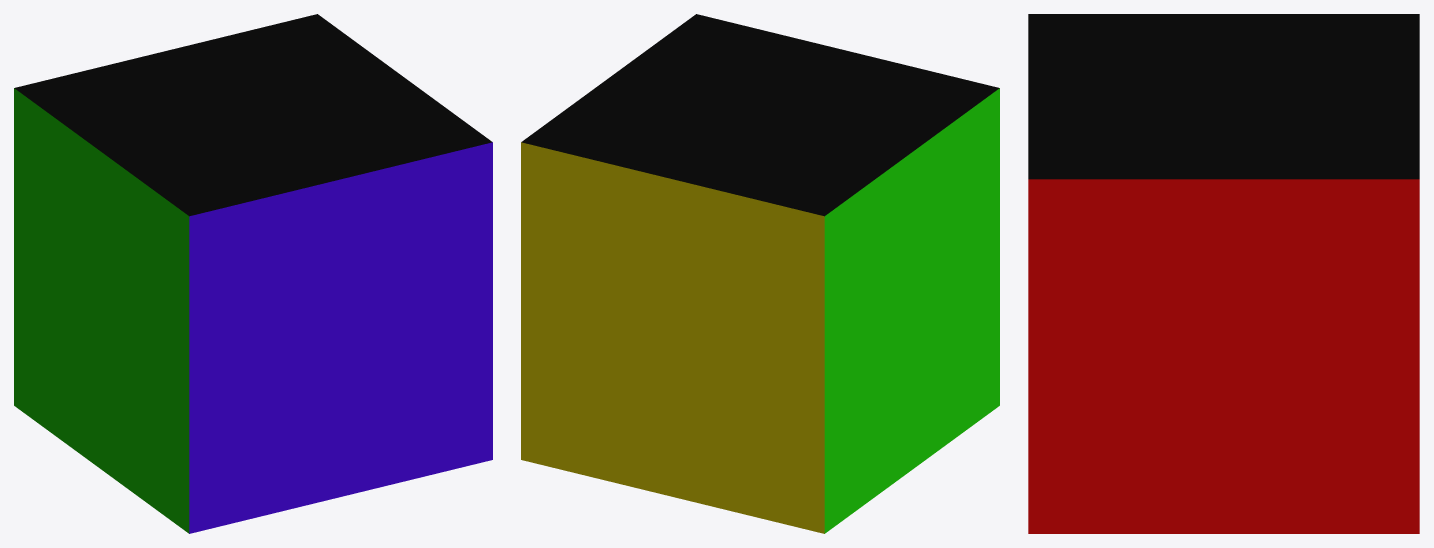
File: walls.fbx
The picture shows the model from 3 angles, left to right: view 1: azimuth 30°, elevation 25°; view 2: azimuth 150°, elevation 25°; view 3: azimuth 270°, elevation 25°; orthographic projection. The views are drawn at different scales.
Parts seen in each view (by area): view 1: 2x2_cube_4, 2x2_ceiling; view 2: 2x2_cube_4, 2x2_ceiling; view 3: 2x2_cube_4, 2x2_ceiling.
Boxes of the visible parts, <box> form: 2x2_cube_4: <box>14,88,492,533</box>; 2x2_ceiling: <box>14,14,492,216</box>; 2x2_cube_4: <box>521,88,999,533</box>; 2x2_ceiling: <box>521,14,999,216</box>; 2x2_cube_4: <box>1028,179,1419,533</box>; 2x2_ceiling: <box>1028,14,1419,179</box>.
Size of the model in its own units: 200 by 200 by 200.
